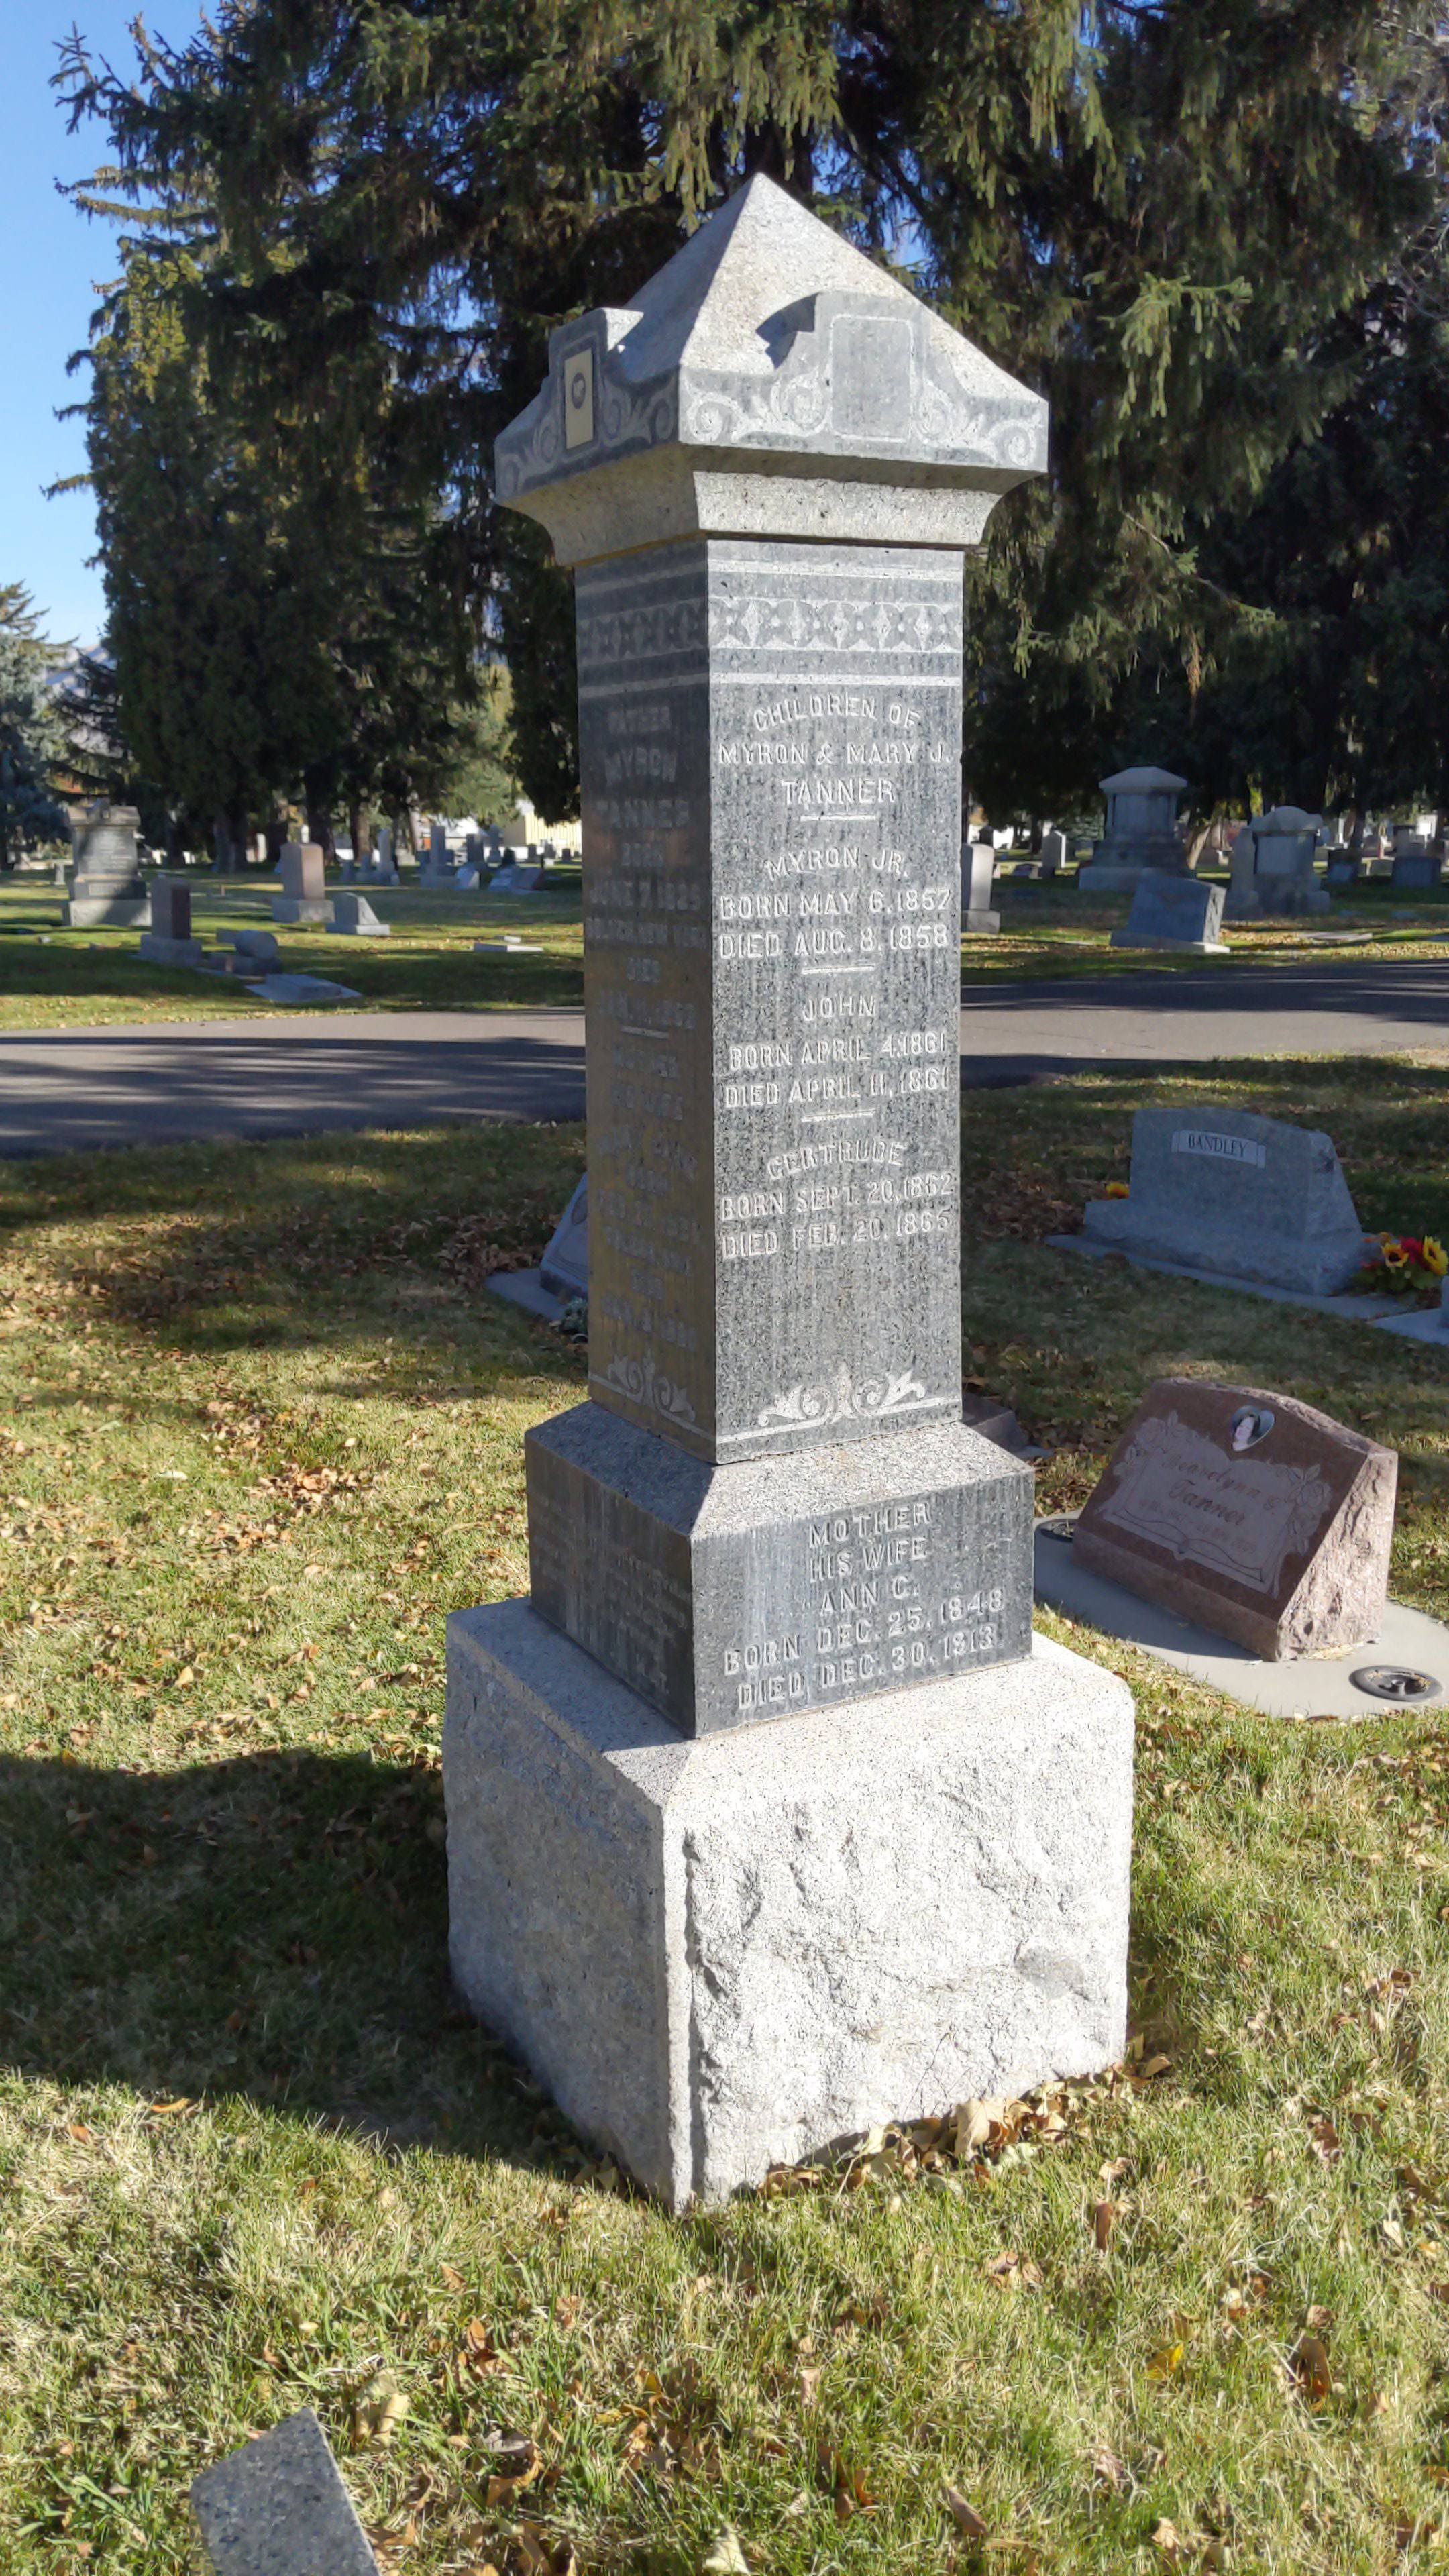obelisk: (490, 172, 1035, 1737)
